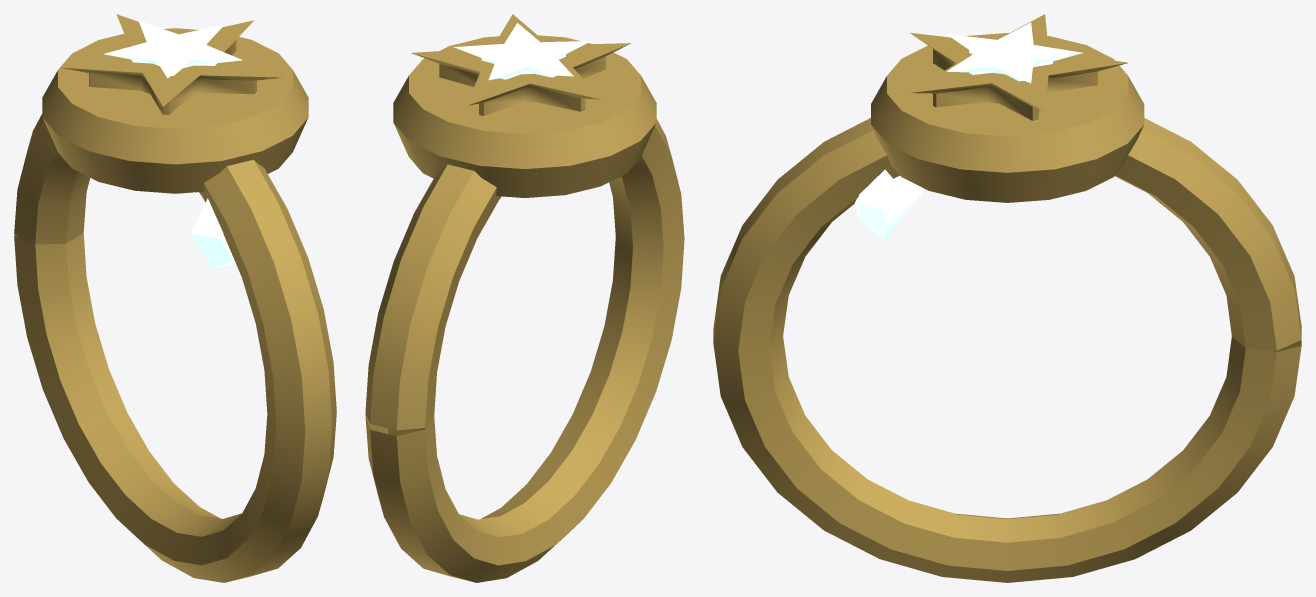
Rendered from esc_unmade_sky_sage_accessory.glb.
3 views of the same model, side by side, from view 1: azimuth 30°, elevation 25°; view 2: azimuth 150°, elevation 25°; view 3: azimuth 270°, elevation 25° (orthographic). The views are drawn at different scales.
Visible parts, largest first — view 1: esc_unmade_sky_sage_accessory; view 2: esc_unmade_sky_sage_accessory; view 3: esc_unmade_sky_sage_accessory.
Part boxes in pixels (bbox=[...]): esc_unmade_sky_sage_accessory: bbox=[14, 14, 336, 582]; esc_unmade_sky_sage_accessory: bbox=[365, 14, 684, 582]; esc_unmade_sky_sage_accessory: bbox=[713, 14, 1301, 582].
Size of the model in its own units: 0.068 by 0.1415 by 0.1442.
